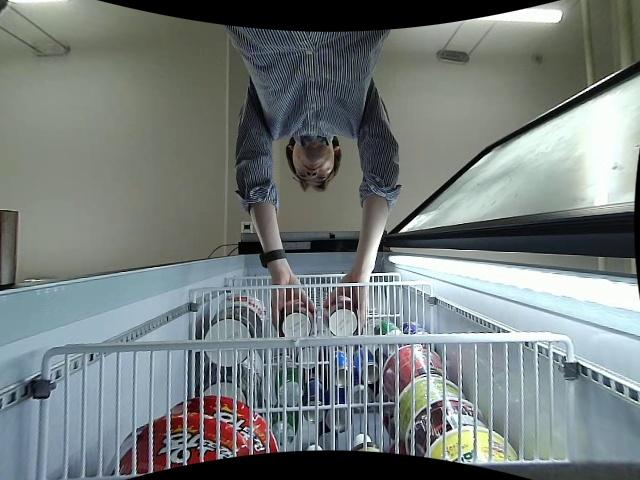00_hand: (322, 278, 370, 334), (271, 274, 314, 334)
02_shinRamen_S: (279, 298, 317, 339), (323, 294, 359, 334)
